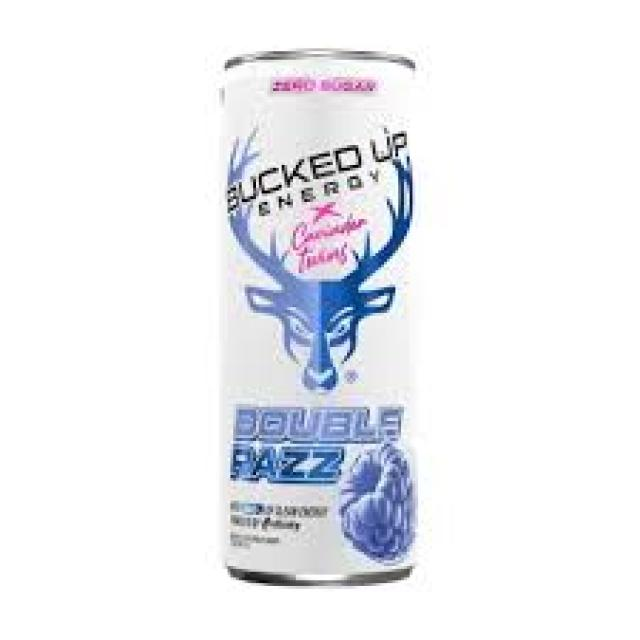Cans: (208, 34, 432, 592)
